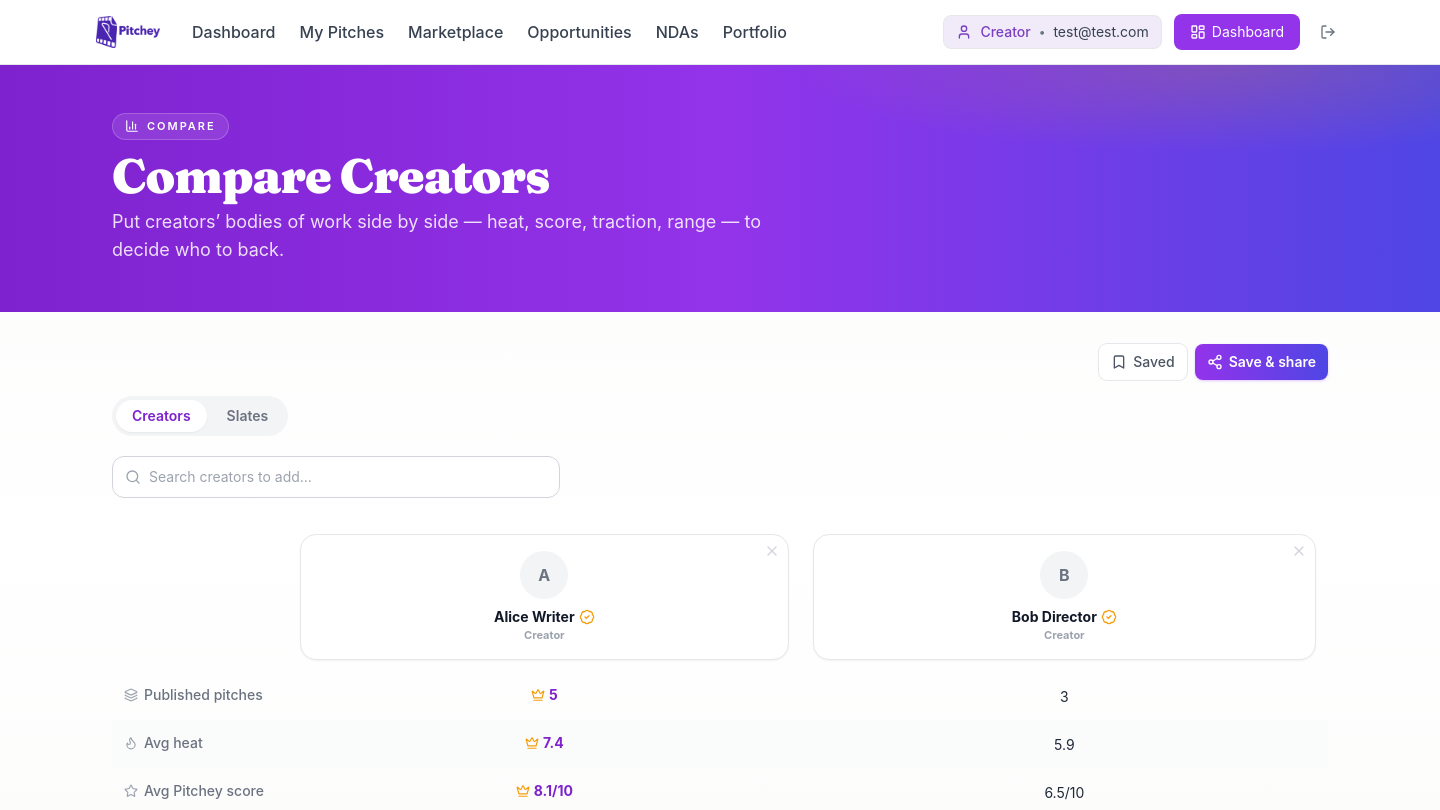
ComparePage › save modal › opens save modal when "Save & share" is clicked
Click the button "Save & share". click: x=1261, y=362
box: [1195,344,1328,380]
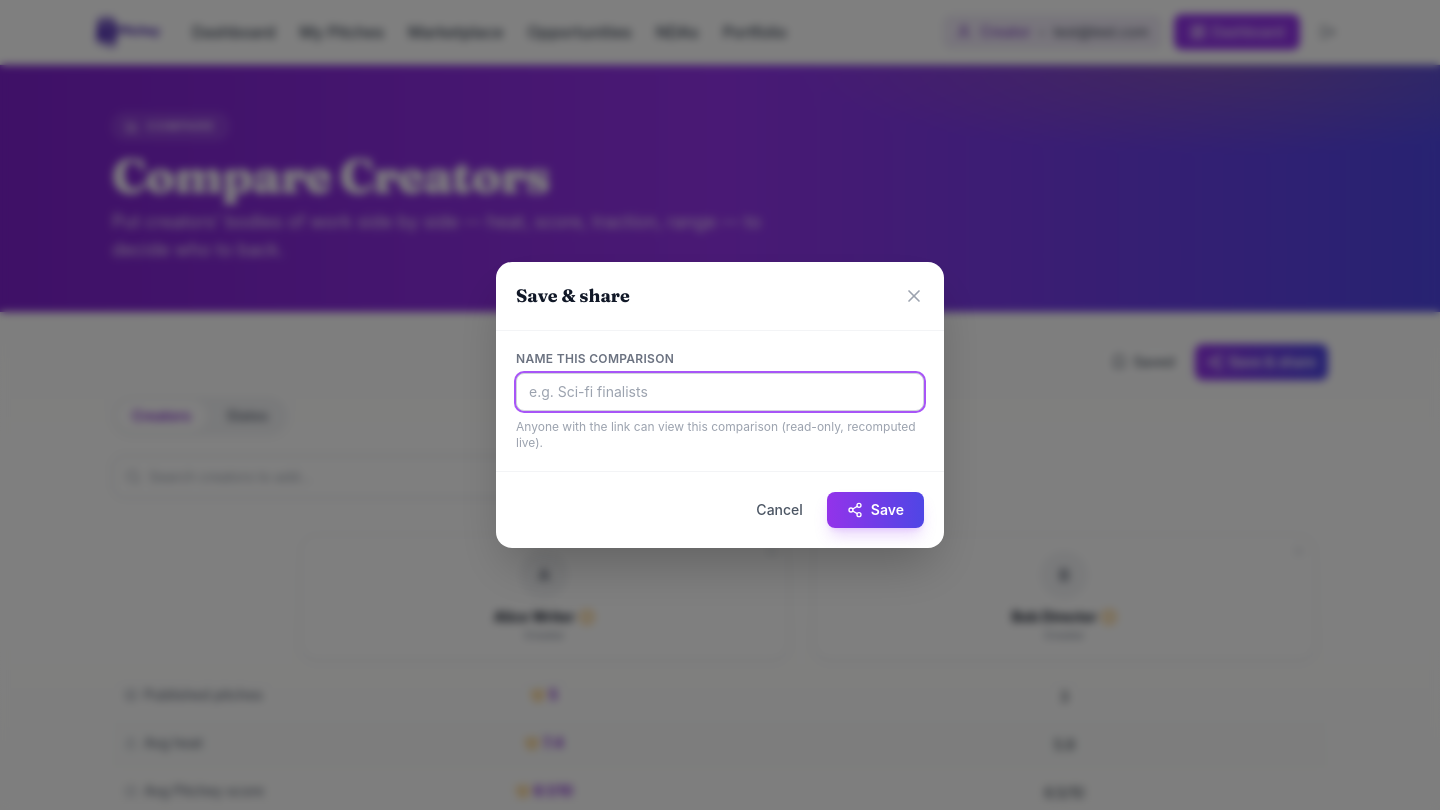
Now the heading "Save & share" is shown, box [516,282,630,310]
